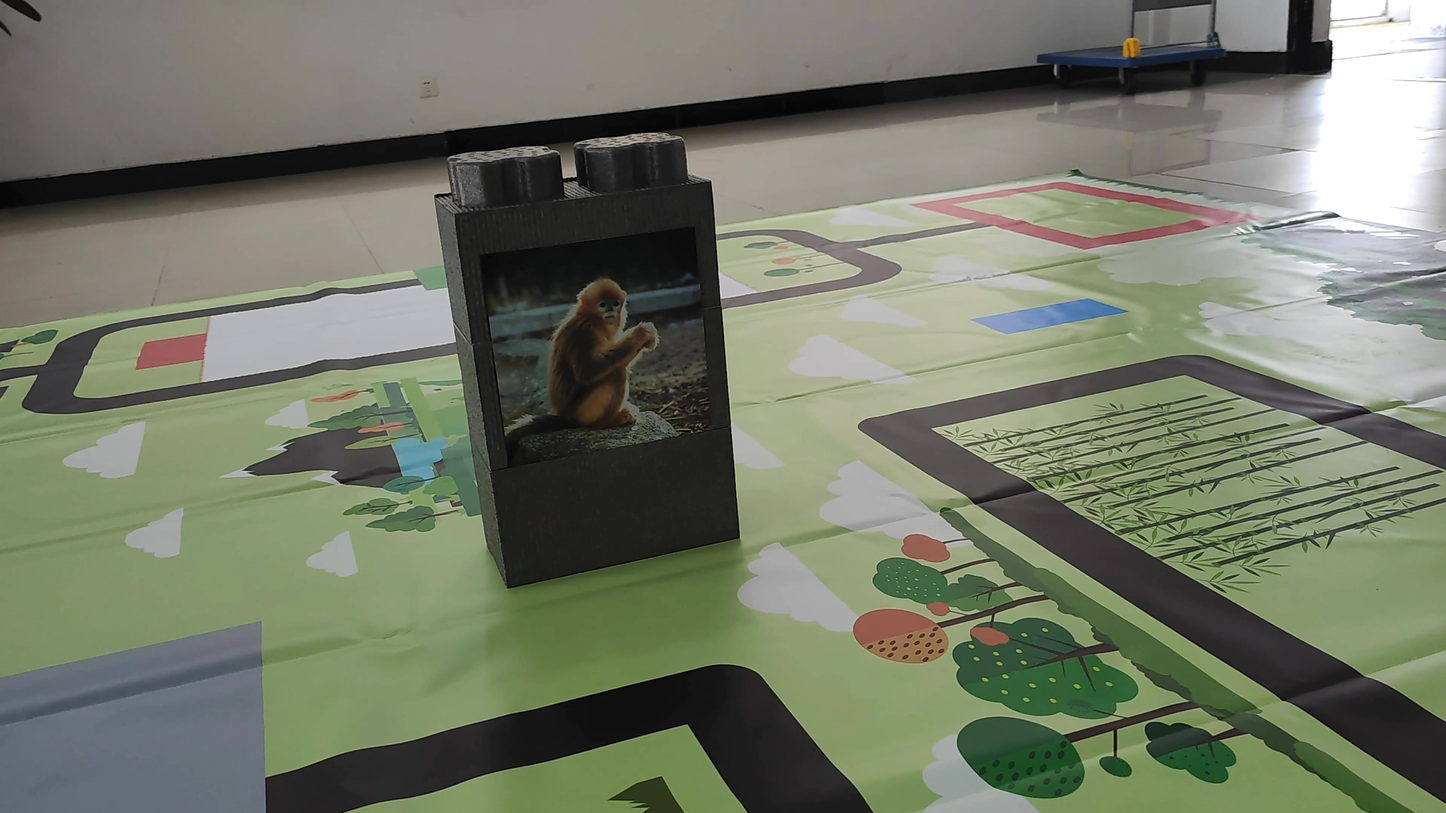monkey: (499, 264, 682, 465)
